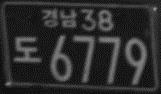3: (81, 8, 97, 31)
6: (49, 34, 72, 81)
7: (98, 36, 121, 84), (73, 35, 95, 83)
8: (99, 9, 113, 32)
9: (124, 36, 147, 85)
경남_O: (41, 8, 78, 29)
도: (13, 35, 42, 63)
